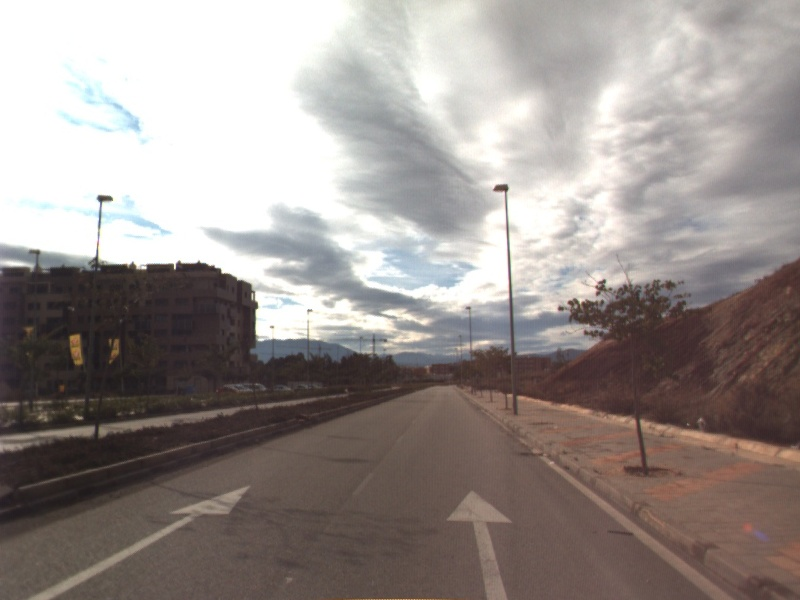STRAIGHT: (20, 483, 253, 600), (444, 487, 516, 600)
